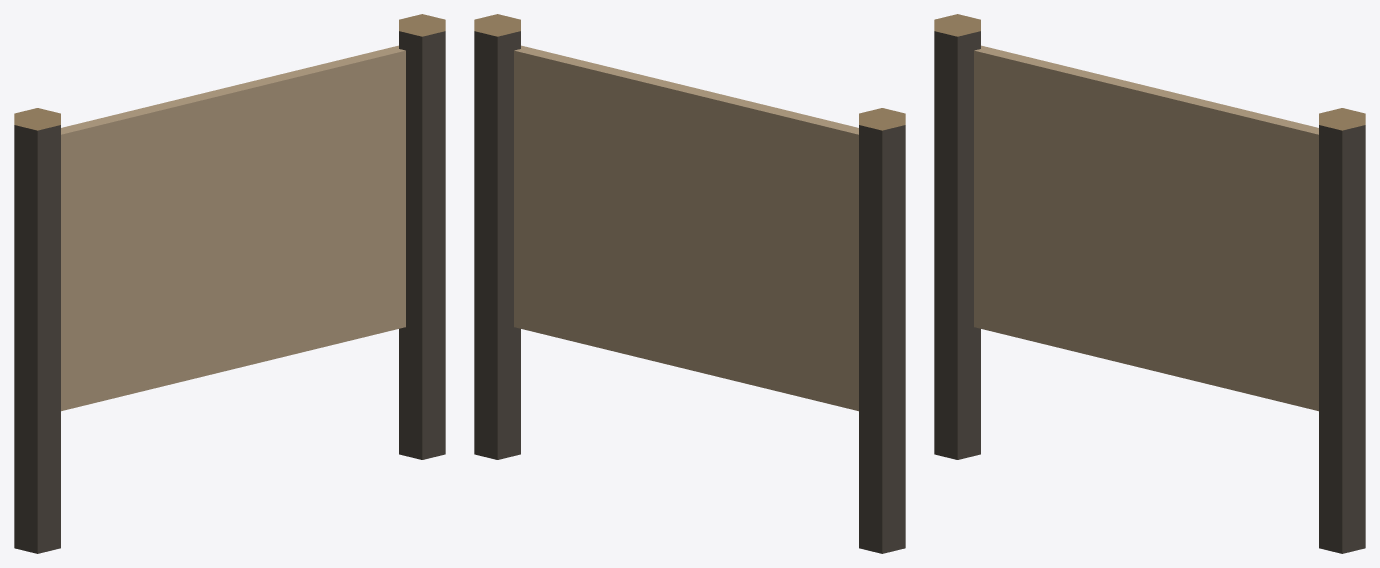
The model's file is Sign.fbx.
3 views of the same model, side by side, from view 1: azimuth 30°, elevation 25°; view 2: azimuth 150°, elevation 25°; view 3: azimuth 330°, elevation 25° (orthographic).
Visible parts, largest first — view 1: pCylinder3; view 2: pCylinder3; view 3: pCylinder3.
Part boxes in pixels (x1,y1,x2,y2): pCylinder3: (14, 14, 445, 553); pCylinder3: (474, 14, 905, 553); pCylinder3: (934, 14, 1365, 553).
Bounding box in the file's own units: 14.13 × 13.25 × 1.32.
